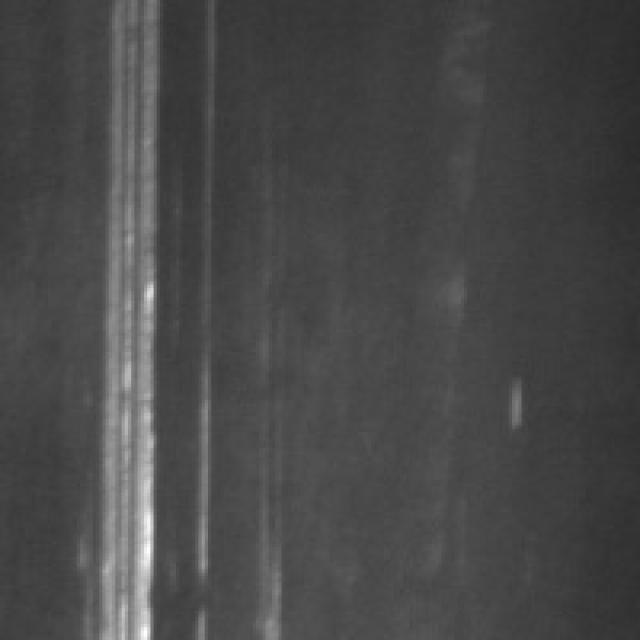scratches: (80, 0, 166, 637)
